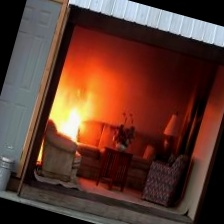fire: (52, 82, 94, 136)
